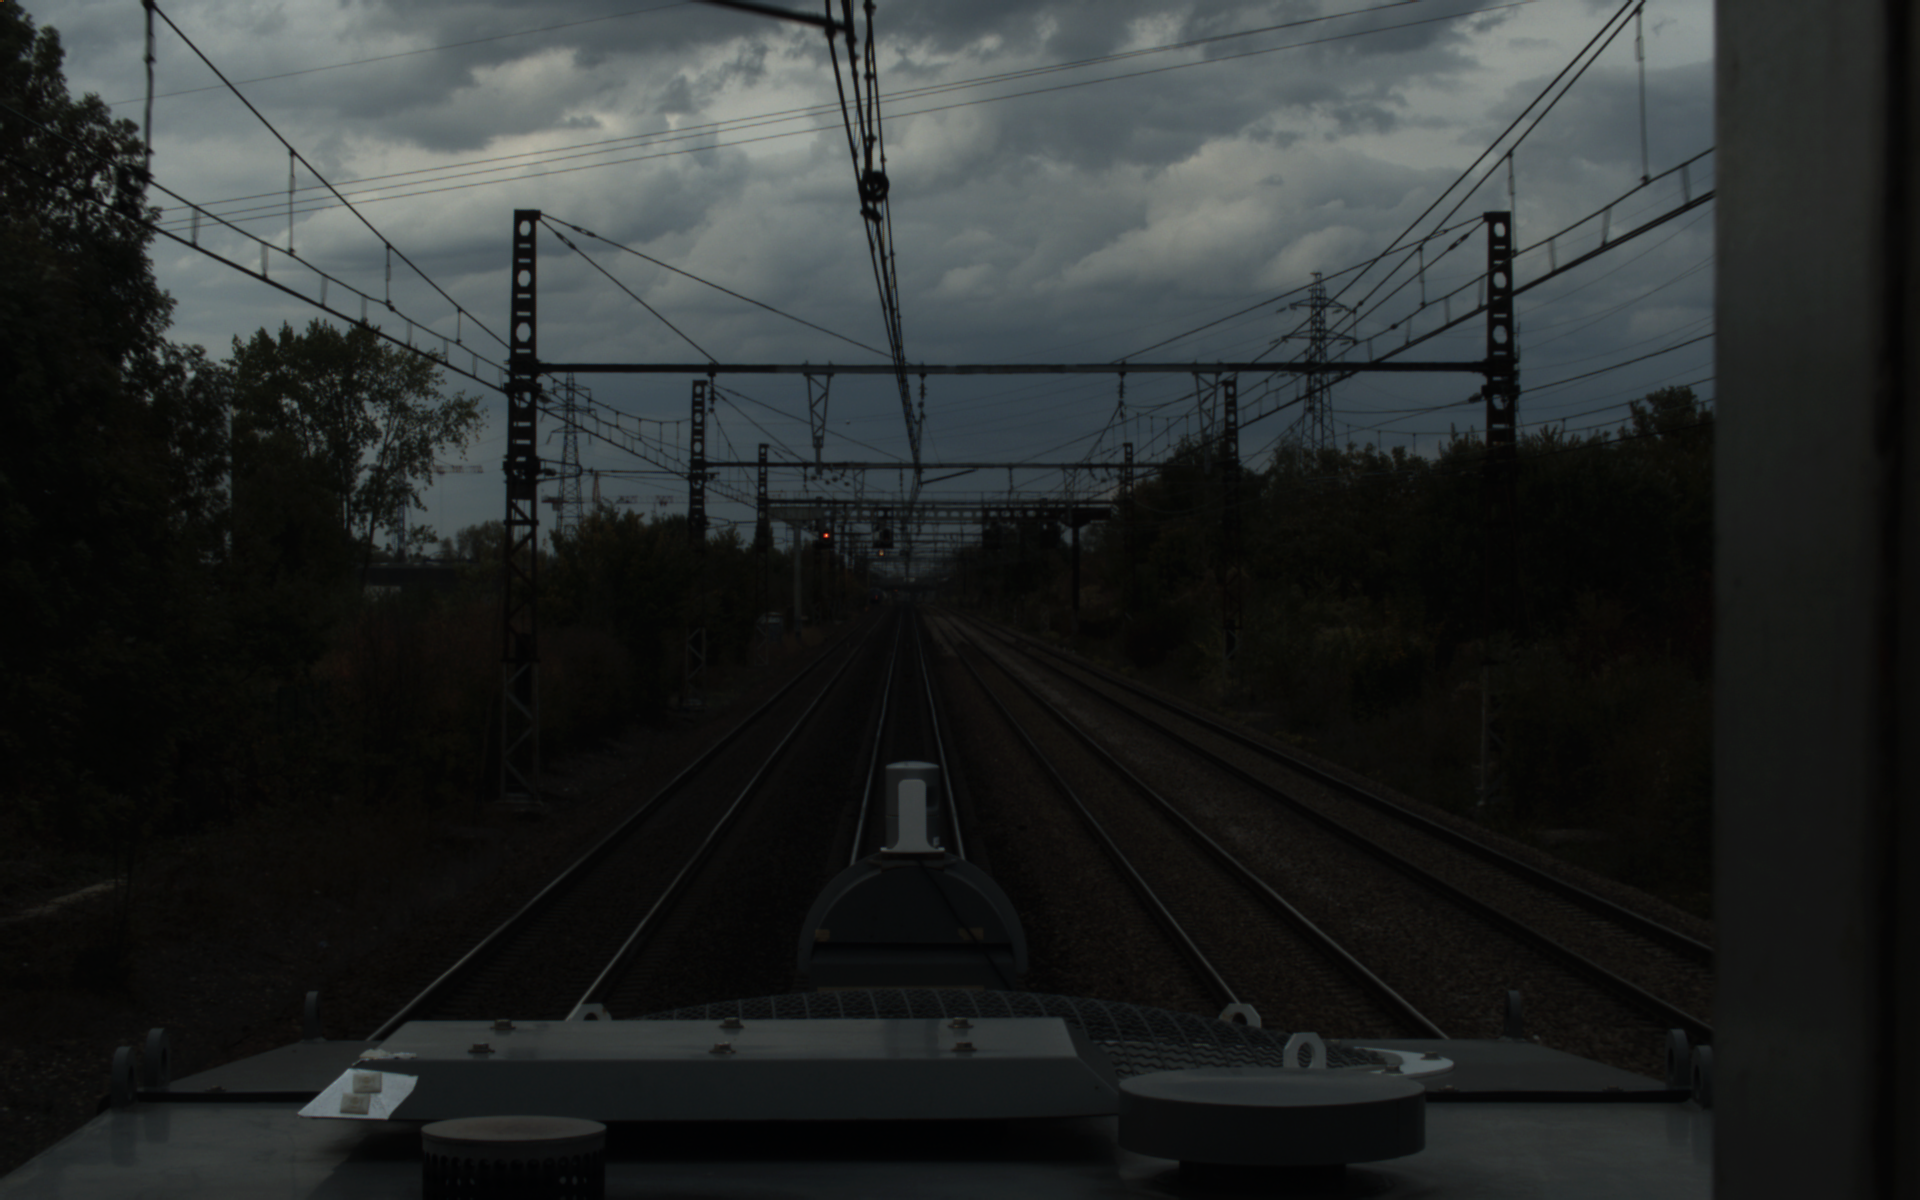Blinking: (878, 527, 892, 546)
Fixed: (818, 525, 834, 543)
